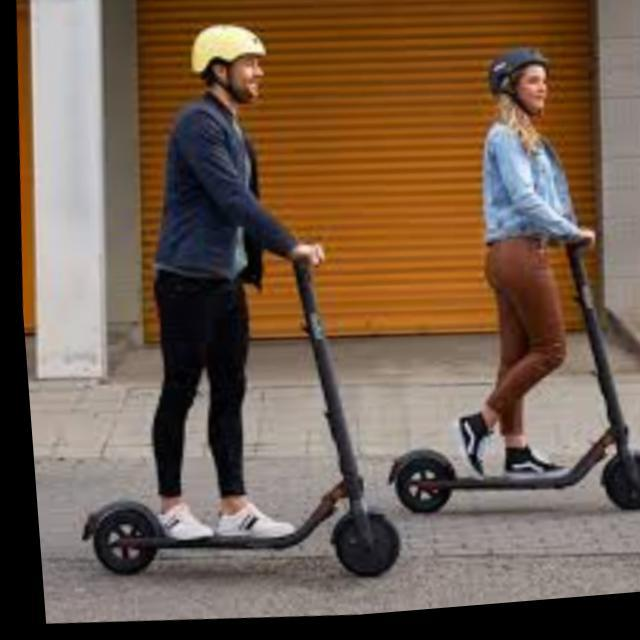Helmet: (179, 10, 270, 116), (477, 33, 554, 130)
